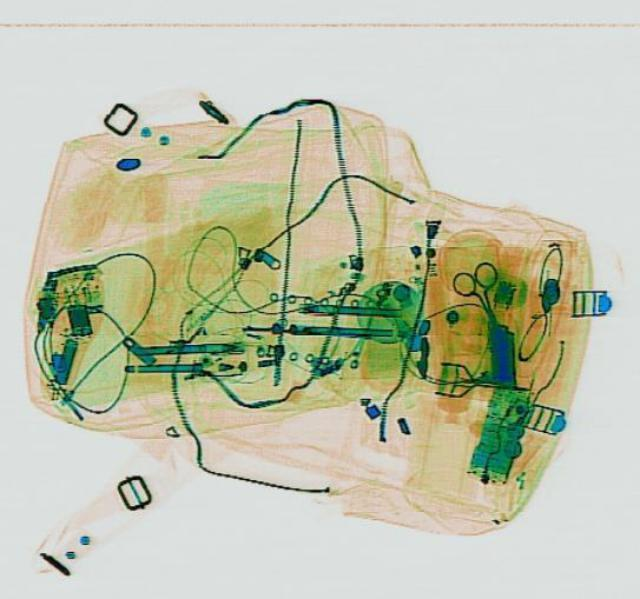Scissors: (446, 258, 516, 331)
